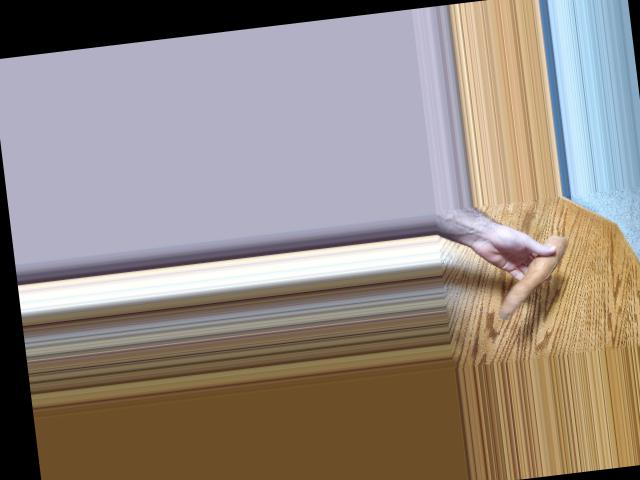sweet_potato: (491, 233, 572, 318)
